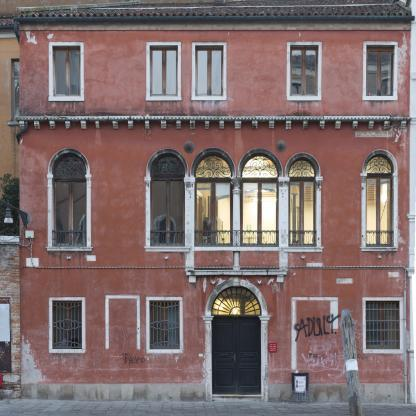Building Outline: (16, 0, 416, 404)
Deco: (276, 140, 286, 152), (184, 141, 194, 153)
Door: (212, 316, 262, 394)
Facade: (15, 1, 412, 404)
Floor: (20, 134, 416, 269)
Floor Slab: (20, 129, 415, 134), (20, 265, 415, 270)
Ground Floor: (20, 269, 416, 404)
Molding: (15, 116, 412, 130)
Roof: (16, 0, 412, 17)
Sill: (185, 269, 288, 275), (144, 247, 190, 252), (281, 247, 324, 252), (45, 247, 93, 251), (360, 247, 398, 251)
Top Floor: (20, 29, 416, 134)
Window: (240, 152, 279, 247), (194, 152, 233, 247), (52, 153, 87, 247), (150, 153, 185, 247), (288, 157, 317, 247), (366, 154, 394, 247), (365, 301, 400, 349), (366, 45, 395, 96), (52, 46, 81, 97), (291, 45, 320, 96), (211, 286, 262, 315), (150, 301, 180, 350), (52, 301, 82, 350), (150, 46, 178, 97), (195, 46, 223, 97)
